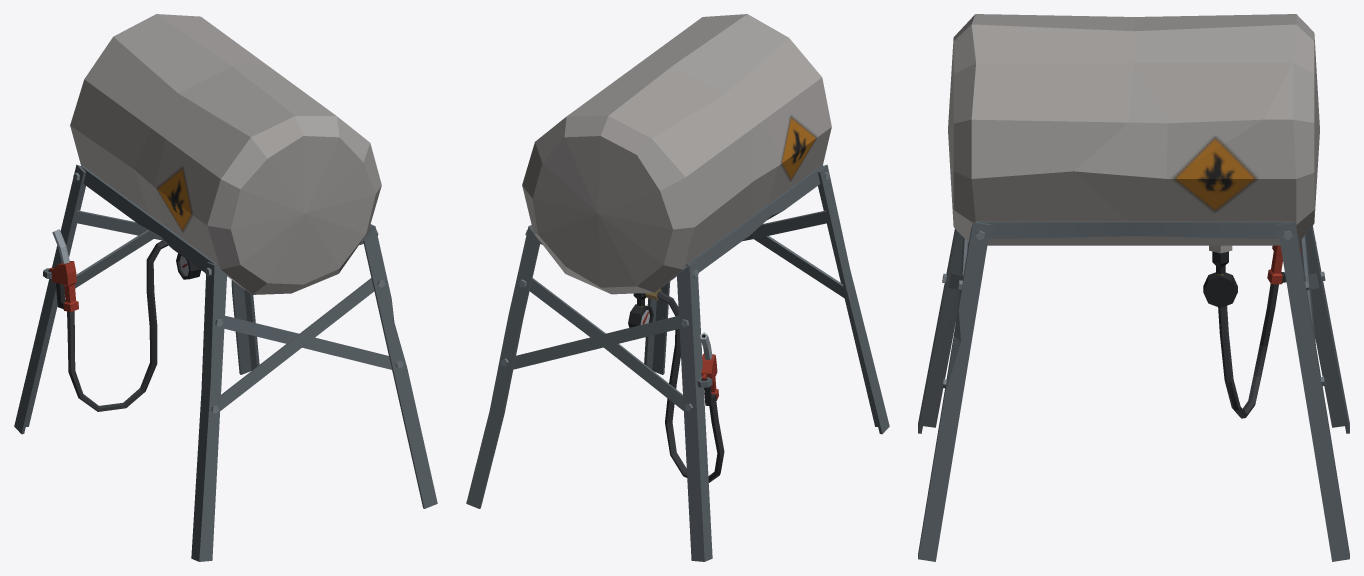
Rendered from SM_Prop_Fuel_Tank_01.glb.
3 renders of one model, left to right at view 1: azimuth 30°, elevation 25°; view 2: azimuth 150°, elevation 25°; view 3: azimuth 270°, elevation 25°, orthographic. The views are drawn at different scales.
Parts seen in each view (by area): view 1: SM_Prop_Fuel_Tank_01; view 2: SM_Prop_Fuel_Tank_01; view 3: SM_Prop_Fuel_Tank_01.
Part boxes in pixels (bbox=[...]): SM_Prop_Fuel_Tank_01: bbox=[14, 14, 437, 561]; SM_Prop_Fuel_Tank_01: bbox=[466, 14, 889, 561]; SM_Prop_Fuel_Tank_01: bbox=[918, 14, 1349, 561].
Bounding box in the file's own units: 1.79 × 2.88 × 2.4.
Materials: 1 (1 with a texture image).
